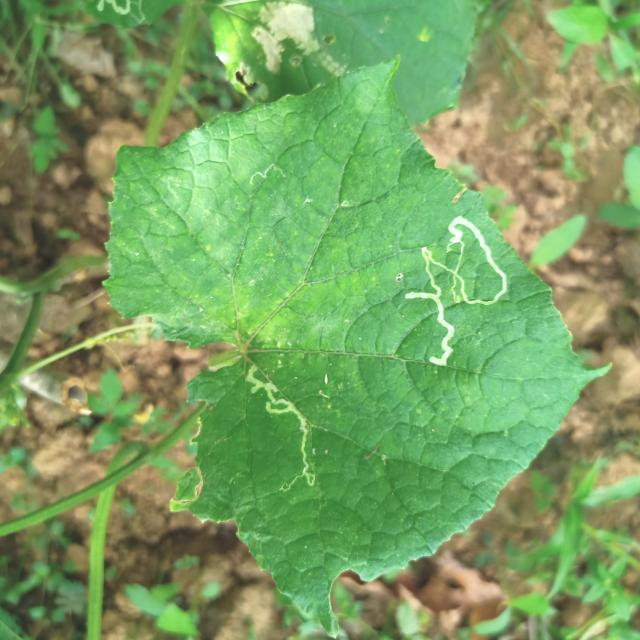disease_cucumber: (254, 1, 346, 80)
